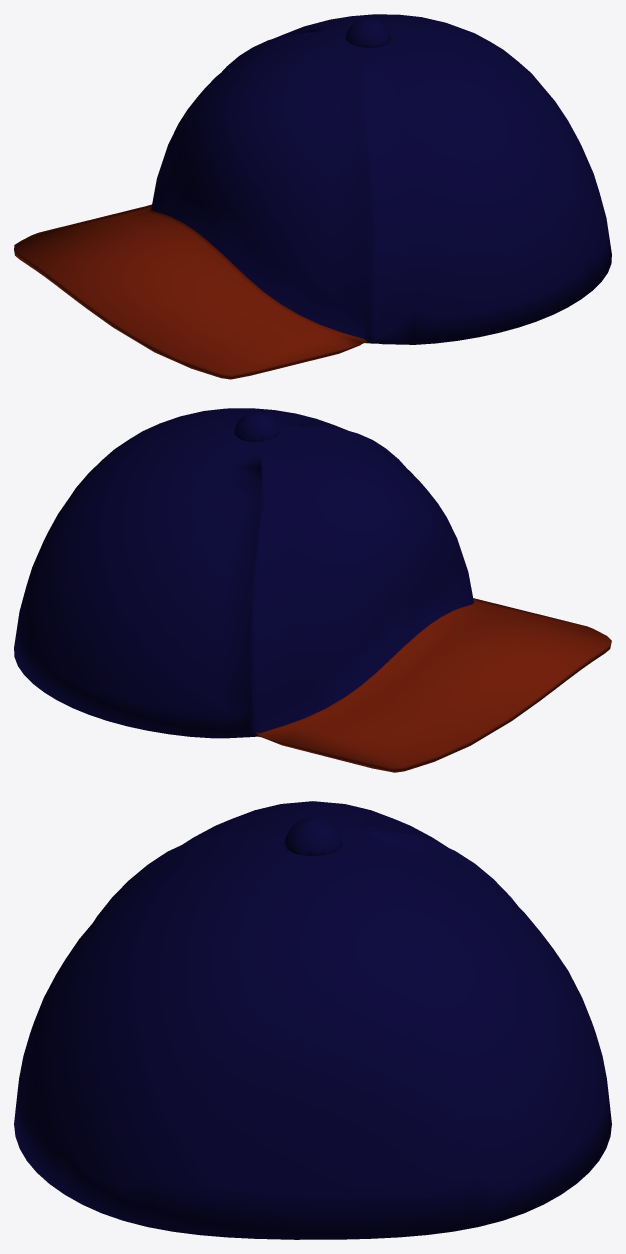
Rendered from cap1.fbx.
3 renders of one model, top to bottom at view 1: azimuth 30°, elevation 25°; view 2: azimuth 150°, elevation 25°; view 3: azimuth 270°, elevation 25°, orthographic. The views are drawn at different scales.
Parts seen in each view (by area): view 1: Sphere; view 2: Sphere; view 3: Sphere.
Part boxes in pixels (x1,y1,x2,y2): Sphere: (14, 14, 611, 379); Sphere: (14, 408, 611, 772); Sphere: (14, 801, 611, 1239).
Bounding box in the file's own units: 11.05 × 4.7 × 8.55.
